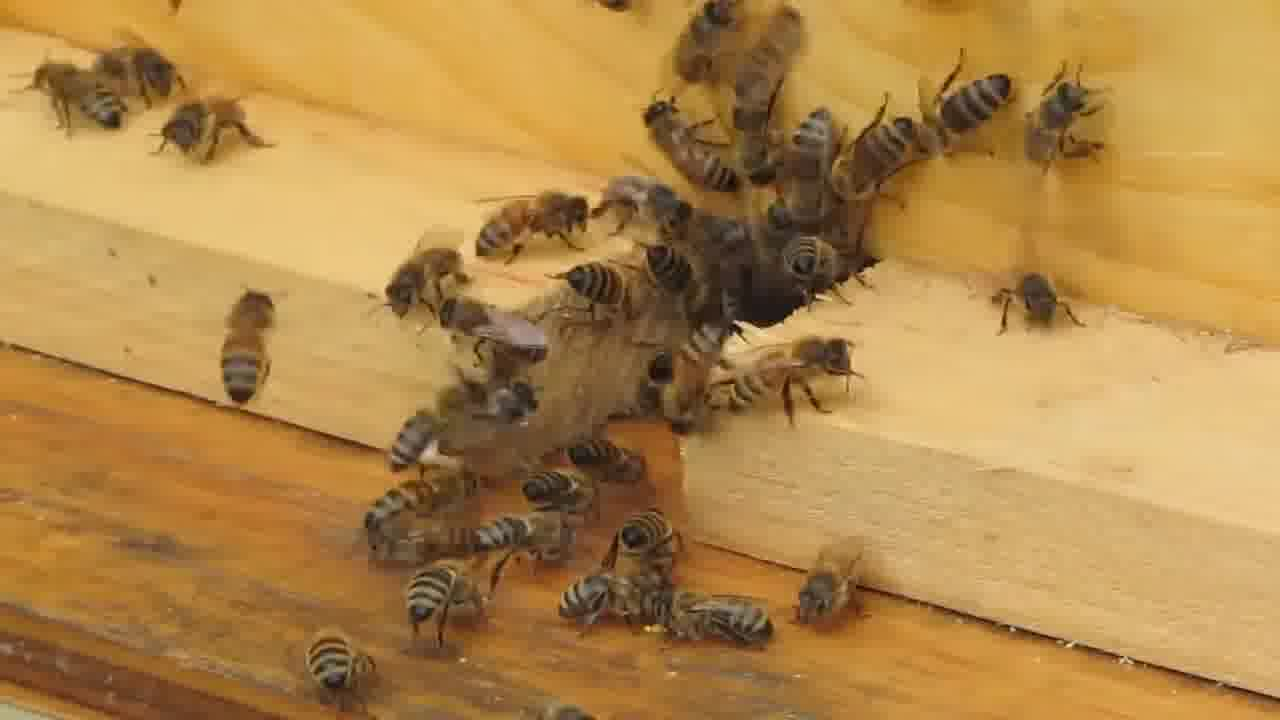pollen: (389, 380, 485, 477)
